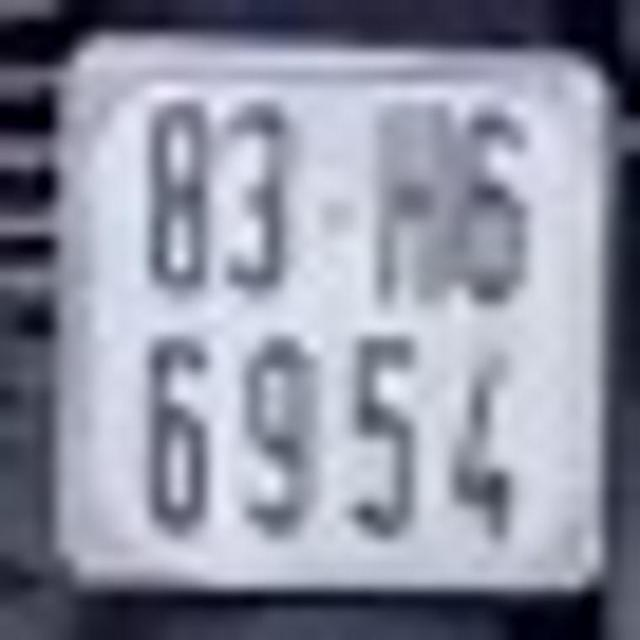3: (228, 90, 286, 290)
4: (460, 368, 520, 539)
5: (356, 318, 414, 546)
6: (143, 321, 214, 530), (466, 96, 529, 309)
8: (150, 105, 206, 281)
9: (244, 332, 321, 530)
B: (378, 85, 452, 306)
